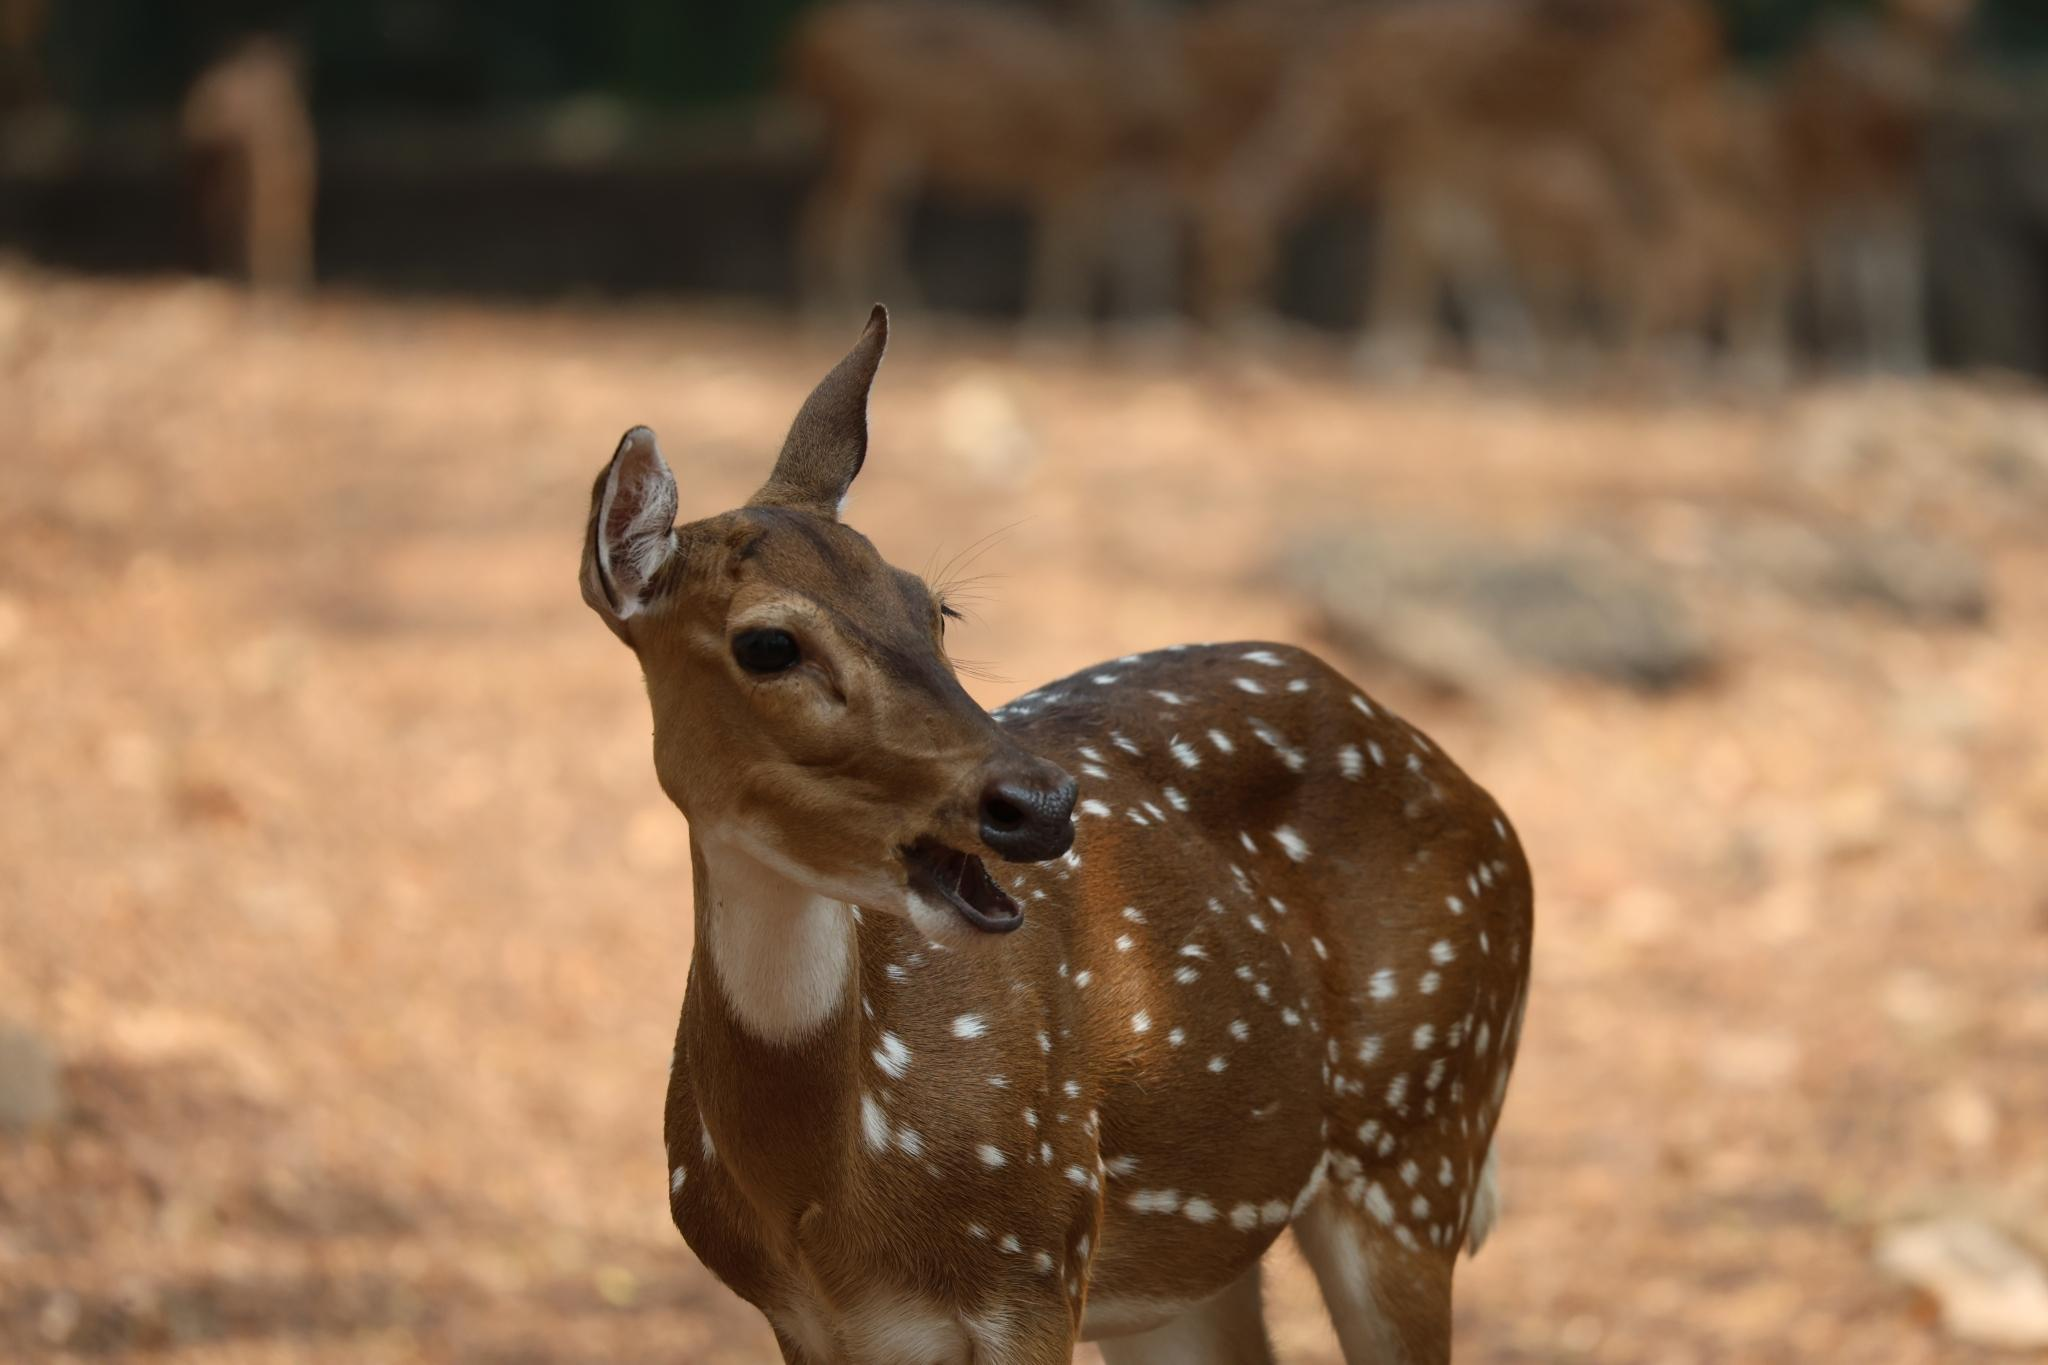Deer: (579, 308, 1530, 1363)
